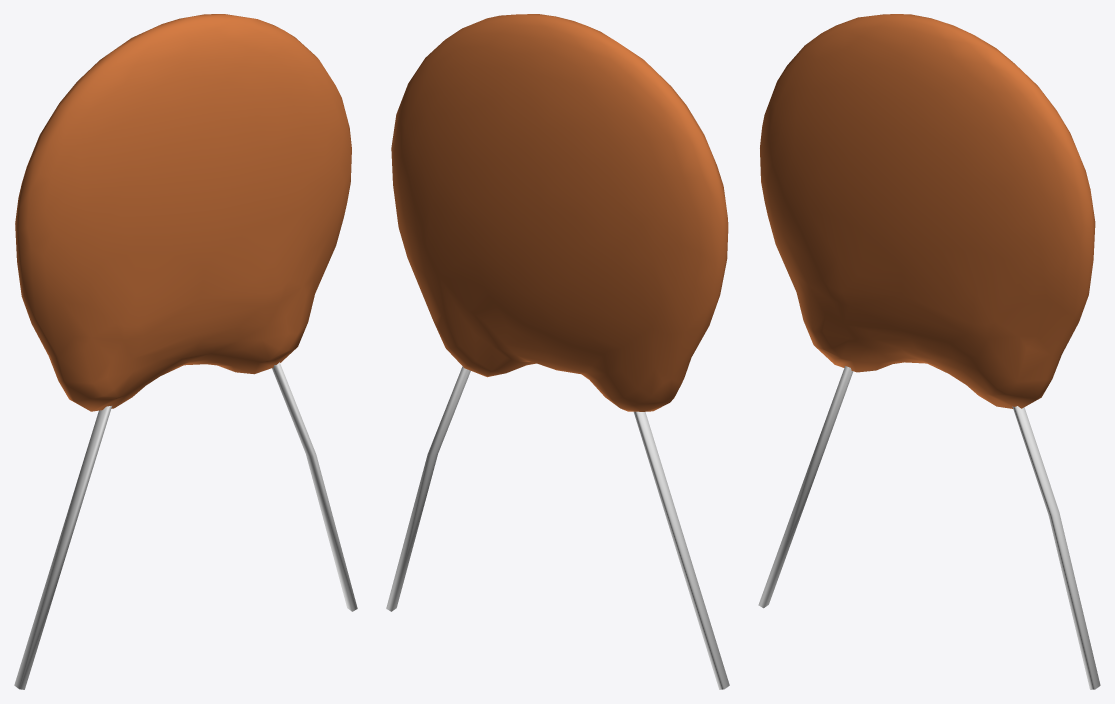
The model's file is CeramicCapacitor.fbx.
The picture shows the model from 3 angles, left to right: view 1: azimuth 30°, elevation 25°; view 2: azimuth 150°, elevation 25°; view 3: azimuth 330°, elevation 25°; orthographic projection.
Visible parts, largest first — view 1: Sphere, Cube.001, Cube; view 2: Sphere, Cube.001, Cube; view 3: Sphere, Cube, Cube.001.
Part boxes in pixels (bbox=[...]): Sphere: bbox=[15, 14, 351, 411]; Cube.001: bbox=[14, 406, 111, 689]; Cube: bbox=[272, 362, 357, 611]; Sphere: bbox=[391, 14, 728, 411]; Cube.001: bbox=[633, 411, 729, 689]; Cube: bbox=[386, 366, 470, 611]; Sphere: bbox=[760, 14, 1095, 408]; Cube: bbox=[1012, 406, 1100, 689]; Cube.001: bbox=[758, 366, 853, 608].
Bounding box in the file's own units: 119 × 213 × 29.84.
